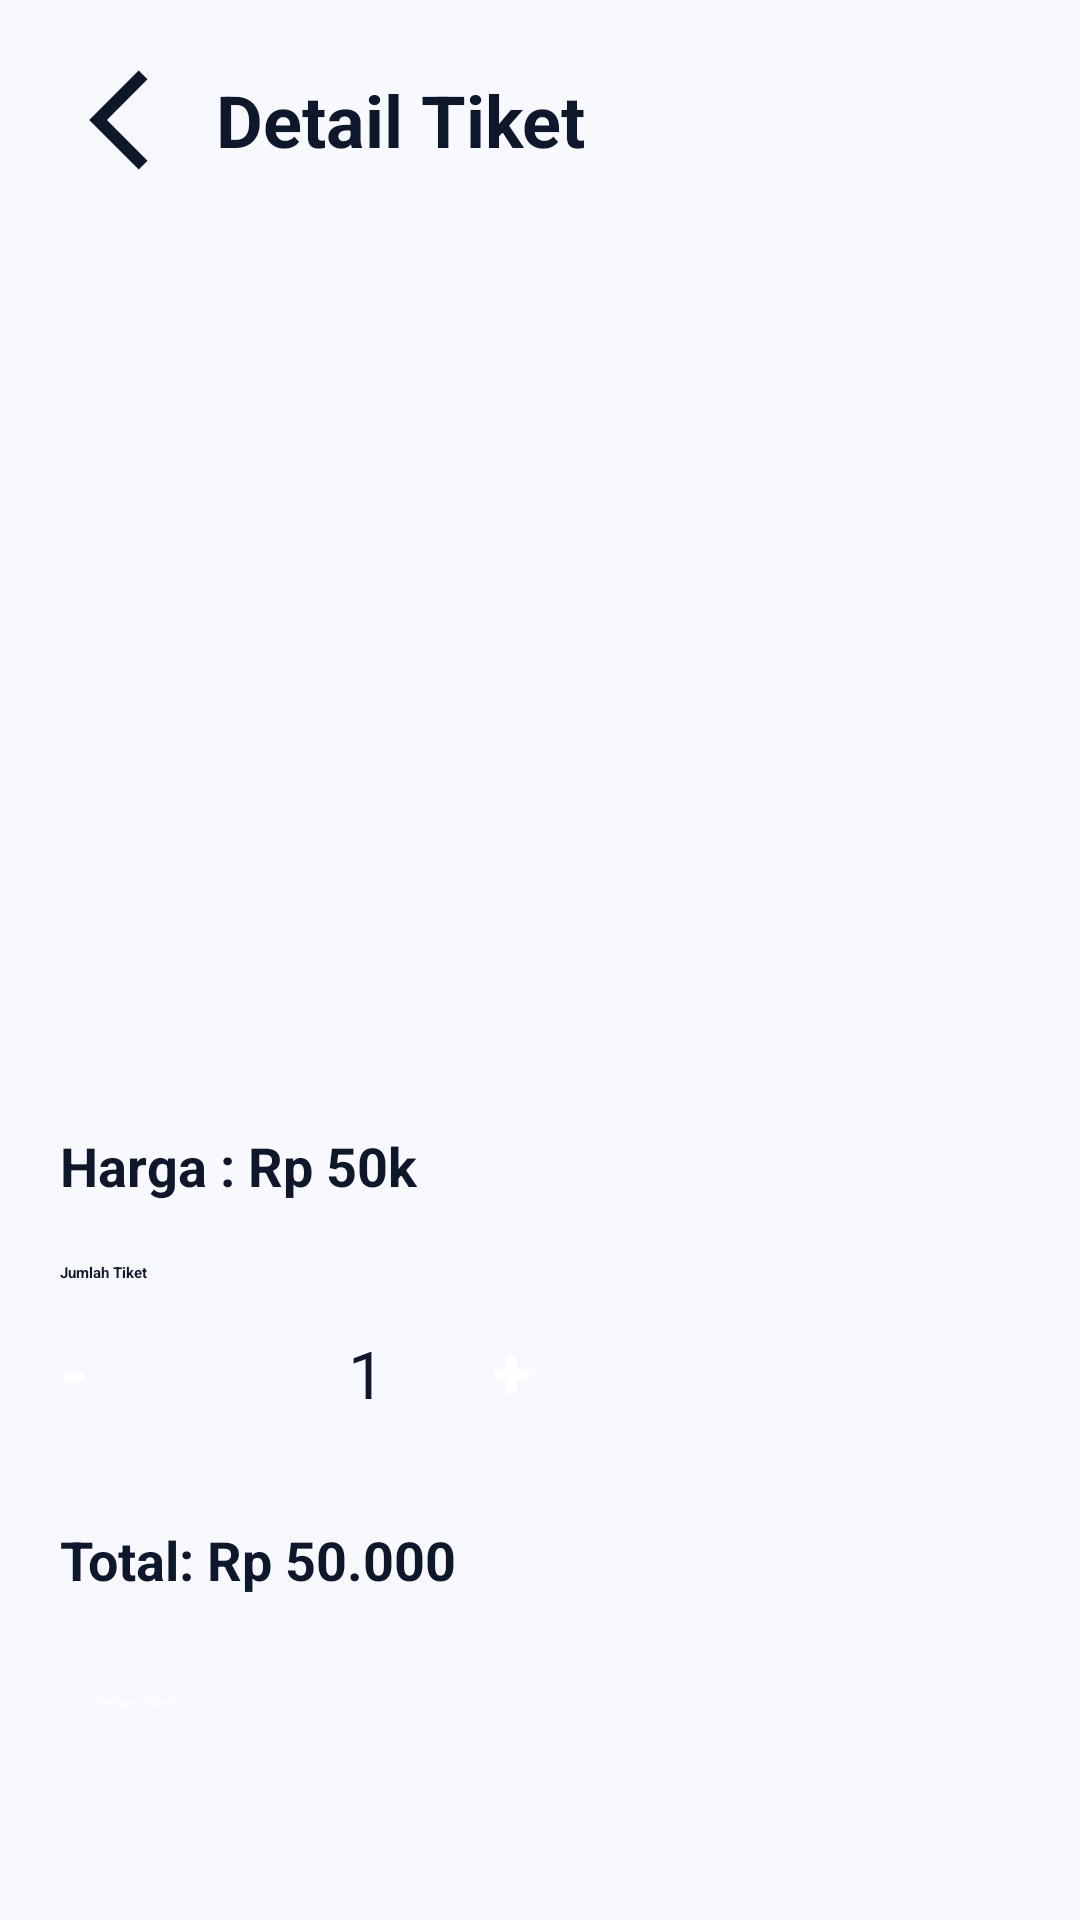

Named icons in this screenshot (1080px x 1920px) and their centers, [x,y]:
Kembali: [118,120]
